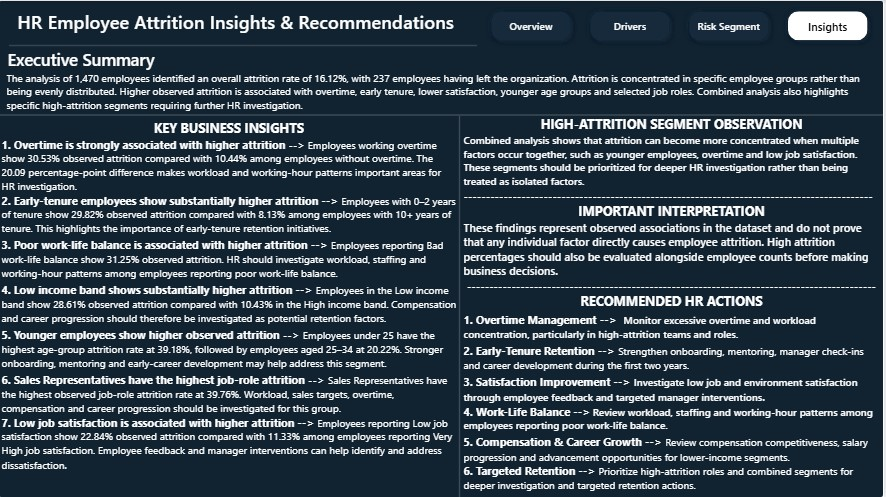

This screenshot's page, from the dashboard's own definition file:
{"tool":"powerbi","page":{"name":"Insights","canvas":[1280,720],"ordinal":3},"visuals":[{"type":"shape","box":[15.9,40.5,676.6,50.6],"z":1000},{"type":"textbox","box":[15.9,7.2,698.3,83.9],"z":2000},{"type":"pageNavigator","box":[704.1,7.2,565.3,60.7],"z":3000},{"type":"textbox","box":[8.7,65.1,349.9,76.6],"z":5000},{"type":"textbox","box":[7.2,96.9,1256.4,73.7],"z":6000},{"type":"shape","box":[0,150.4,1279.5,31.8],"z":7000},{"type":"textbox","box":[0,167.7,668,552.3],"z":8000},{"type":"textbox","box":[668,161.9,611.6,558.1],"z":8001},{"type":"shape","box":[594.2,167.7,146,552.3],"z":8002}]}

Visuals, with their boxes in screenshot pixels (x1, y1, x2, y2), scaled from the page's 1280x720 canvas onto the 886x497 screenshot:
shape: {"x1": 11, "y1": 28, "x2": 479, "y2": 63}
textbox: {"x1": 11, "y1": 5, "x2": 494, "y2": 63}
pageNavigator: {"x1": 487, "y1": 5, "x2": 879, "y2": 47}
textbox: {"x1": 6, "y1": 45, "x2": 248, "y2": 98}
textbox: {"x1": 5, "y1": 67, "x2": 875, "y2": 118}
shape: {"x1": 0, "y1": 104, "x2": 885, "y2": 126}
textbox: {"x1": 0, "y1": 116, "x2": 462, "y2": 496}
textbox: {"x1": 462, "y1": 112, "x2": 885, "y2": 496}
shape: {"x1": 411, "y1": 116, "x2": 512, "y2": 496}
